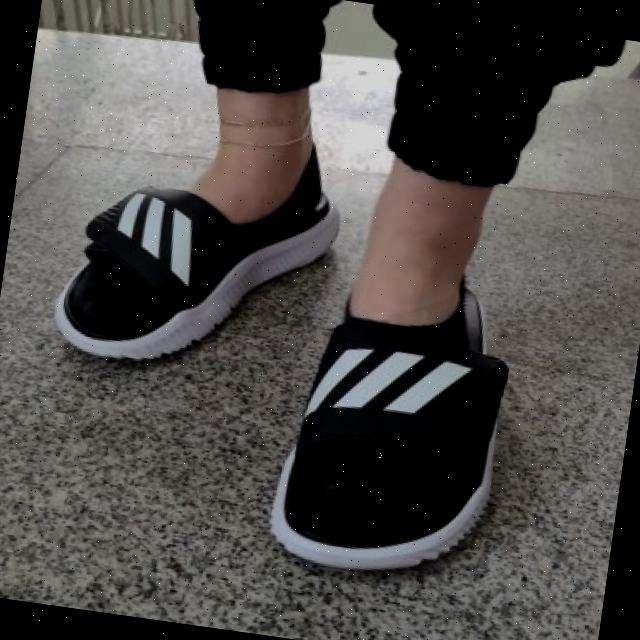no-boots: (27, 98, 331, 416), (263, 256, 533, 594)
